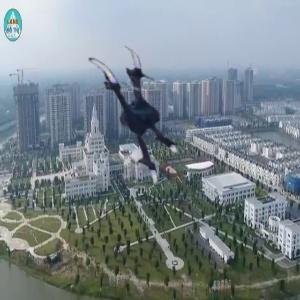drone: (56, 49, 196, 189)
